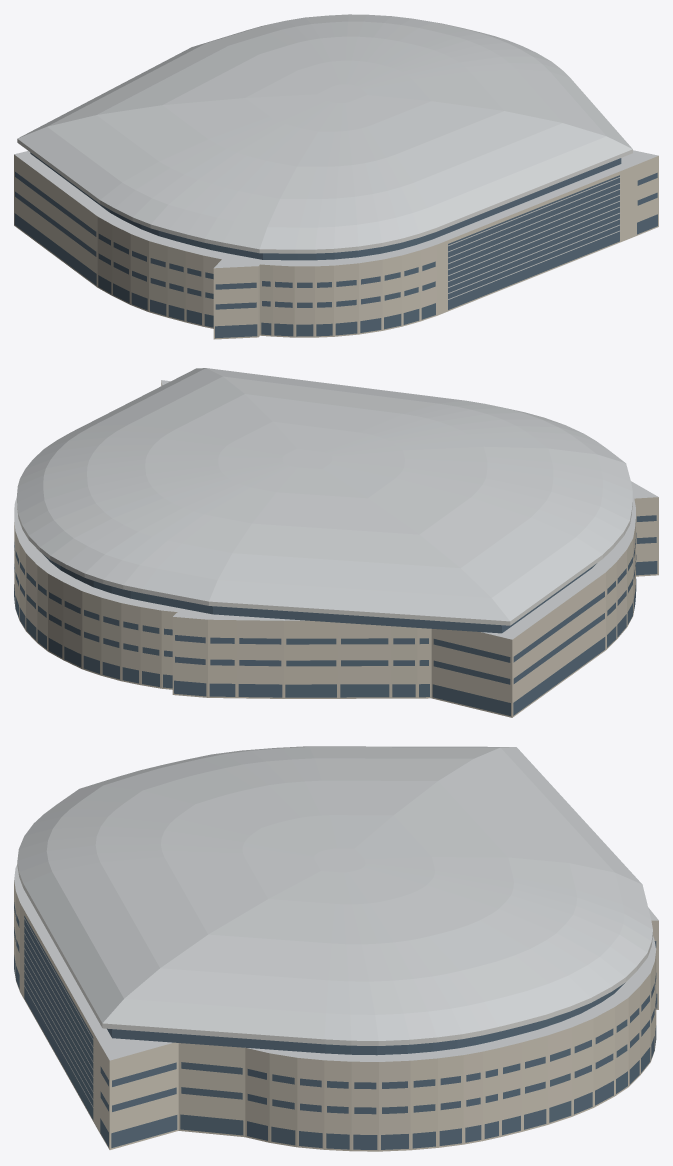
File: stl-enterprise-center.glb
3 renders of one model, top to bottom at view 1: azimuth 30°, elevation 25°; view 2: azimuth 150°, elevation 25°; view 3: azimuth 270°, elevation 25°, orthographic. The views are drawn at different scales.
Parts seen in each view (by area): view 1: Enterprise Center; view 2: Enterprise Center; view 3: Enterprise Center.
Part boxes in pixels (<box>): Enterprise Center: <box>14,14,658,339</box>; Enterprise Center: <box>14,368,658,717</box>; Enterprise Center: <box>14,746,658,1151</box>.
Bounding box in the file's own units: 153 × 36.5 × 140.
